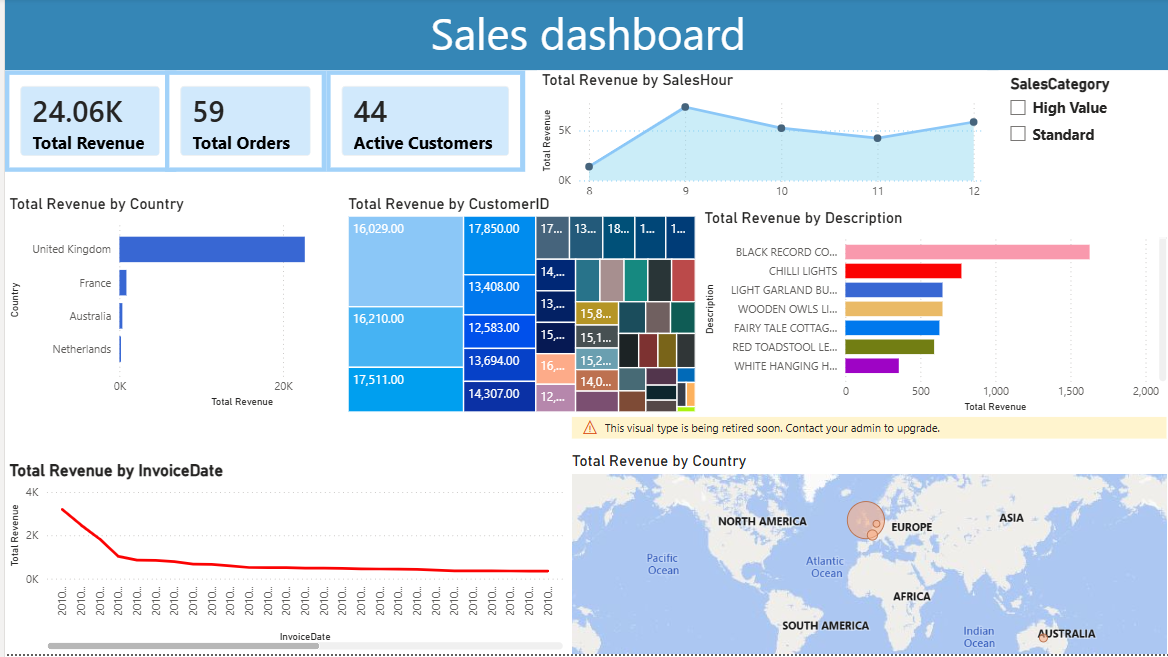

Layout of this report page (visuals, bound fields, positions):
{"tool":"powerbi","page":{"name":"Page 1","canvas":[1280,720],"ordinal":0},"visuals":[{"type":"textbox","box":[150,177,300,300],"z":0},{"type":"textbox","box":[0,0,1280.3,79.6],"z":1000},{"type":"cardVisual","fields":{"Data":["smart_sales_db dashboard_sales_data.Total Revenue"]},"box":[0,79.6,188,111.1],"z":2000},{"type":"cardVisual","fields":{"Data":["smart_sales_db dashboard_sales_data.Total Orders"]},"box":[175.6,79.6,177,111.1],"z":3000},{"type":"cardVisual","fields":{"Data":["smart_sales_db dashboard_sales_data.Active Customers"]},"box":[352.7,79.6,218.2,111.1],"z":4000},{"type":"lineChart","fields":{"Y":["smart_sales_db dashboard_sales_data.Total Revenue"],"Category":["smart_sales_db dashboard_sales_data.InvoiceDate"]},"box":[0,507.7,617.5,212.7],"z":5000},{"type":"clusteredBarChart","fields":{"Category":["smart_sales_db dashboard_sales_data.Country"],"Y":["smart_sales_db dashboard_sales_data.Total Revenue"]},"box":[0,215.4,410.3,238.8],"z":6000},{"type":"slicer","fields":{"Values":["smart_sales_db dashboard_sales_data.SalesCategory"]},"box":[1090.9,79.6,189.4,135.8],"z":7000},{"type":"clusteredBarChart","fields":{"Category":["smart_sales_db dashboard_sales_data.Description"],"Y":["smart_sales_db dashboard_sales_data.Total Revenue"]},"box":[763,230.5,517.3,229.2],"z":8000},{"type":"areaChart","fields":{"Category":["smart_sales_db dashboard_sales_data.SalesHour"],"Y":["smart_sales_db dashboard_sales_data.Total Revenue"]},"box":[584.6,79.6,494,150.9],"z":9000},{"type":"treemap","fields":{"Group":["smart_sales_db dashboard_sales_data.CustomerID"],"Values":["smart_sales_db dashboard_sales_data.Total Revenue"]},"box":[371.9,215.4,391.1,244.3],"z":9001},{"type":"map","fields":{"Category":["smart_sales_db dashboard_sales_data.Country"],"Size":["smart_sales_db dashboard_sales_data.Total Revenue"]},"box":[617.5,459.7,662.8,260.7],"z":9002}]}

Visuals, with their boxes in screenshot pixels (x1, y1, x2, y2), scaled from the page's 1280x720 canvas onto the 1168x657 screenshot:
textbox: 137, 162, 411, 435
textbox: 0, 0, 1167, 73
cardVisual - smart_sales_db dashboard_sales_data.Total Revenue: 0, 73, 172, 174
cardVisual - smart_sales_db dashboard_sales_data.Total Orders: 160, 73, 322, 174
cardVisual - smart_sales_db dashboard_sales_data.Active Customers: 322, 73, 521, 174
lineChart - smart_sales_db dashboard_sales_data.Total Revenue x smart_sales_db dashboard_sales_data.InvoiceDate: 0, 463, 563, 656
clusteredBarChart - smart_sales_db dashboard_sales_data.Country x smart_sales_db dashboard_sales_data.Total Revenue: 0, 197, 374, 414
slicer - smart_sales_db dashboard_sales_data.SalesCategory: 995, 73, 1167, 197
clusteredBarChart - smart_sales_db dashboard_sales_data.Description x smart_sales_db dashboard_sales_data.Total Revenue: 696, 210, 1167, 419
areaChart - smart_sales_db dashboard_sales_data.SalesHour x smart_sales_db dashboard_sales_data.Total Revenue: 533, 73, 984, 210
treemap - smart_sales_db dashboard_sales_data.CustomerID x smart_sales_db dashboard_sales_data.Total Revenue: 339, 197, 696, 419
map - smart_sales_db dashboard_sales_data.Country x smart_sales_db dashboard_sales_data.Total Revenue: 563, 419, 1167, 656
